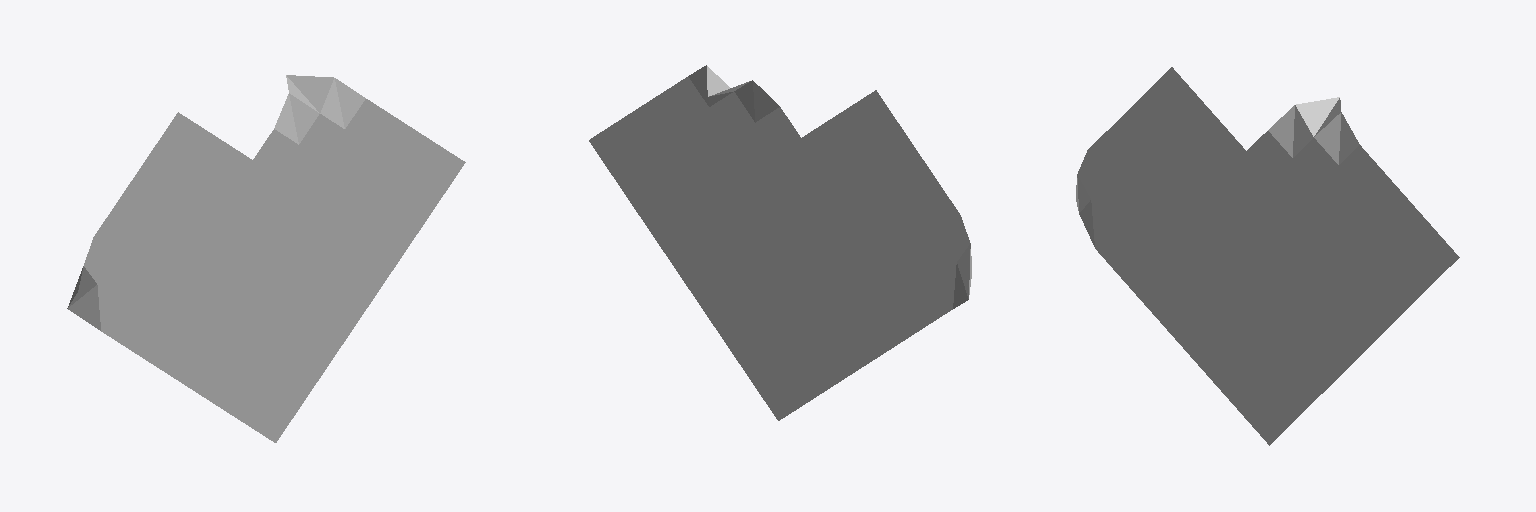
File: Feralas - Twin Water 02.wlw.obj
The picture shows the model from 3 angles: view 1: azimuth 30°, elevation 25°; view 2: azimuth 150°, elevation 25°; view 3: azimuth 330°, elevation 25°; orthographic projection.
Bounding box in the file's own units: 99.34 × 86.62 × 13.35.